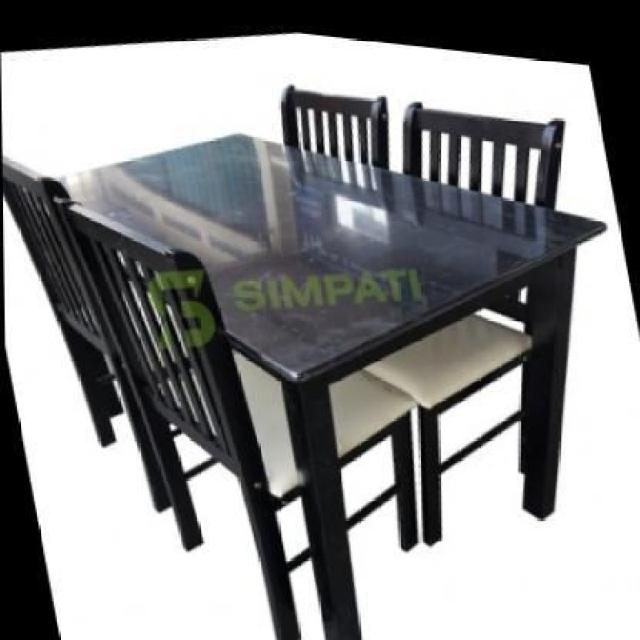tables: (55, 131, 608, 638)
